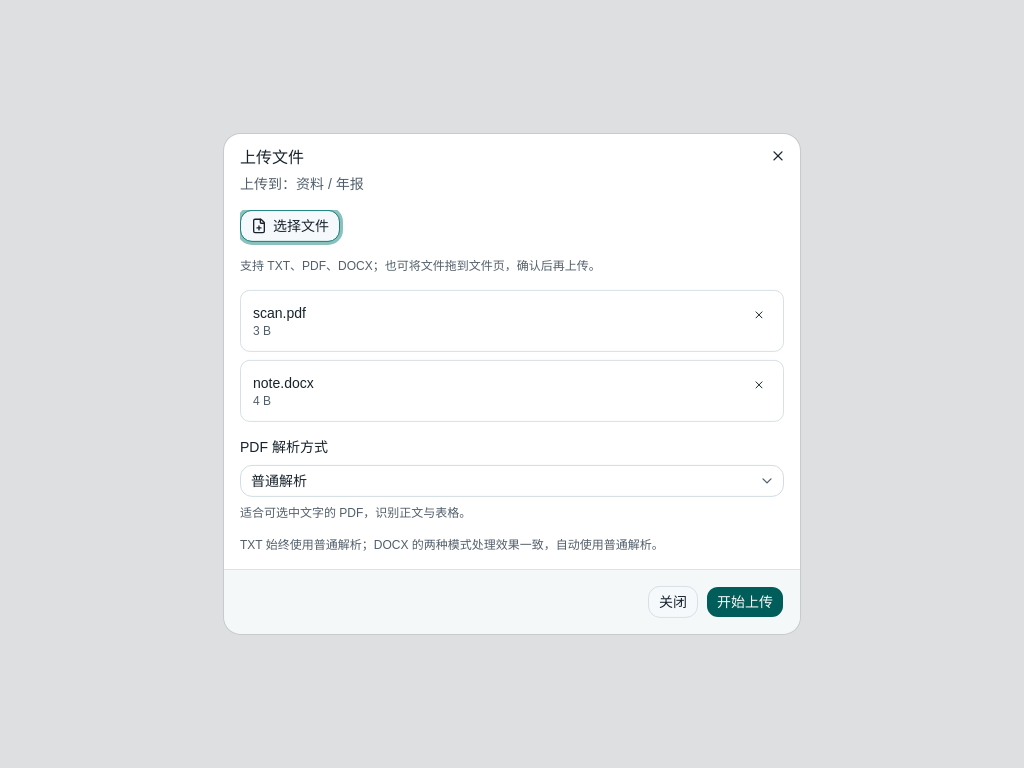
上传确认 › applies OCR only to PDFs and retries failed uploads without resending successes
Click the dropdown named "PDF 解析方式".
click(279, 481)  # box [240, 465, 784, 497]
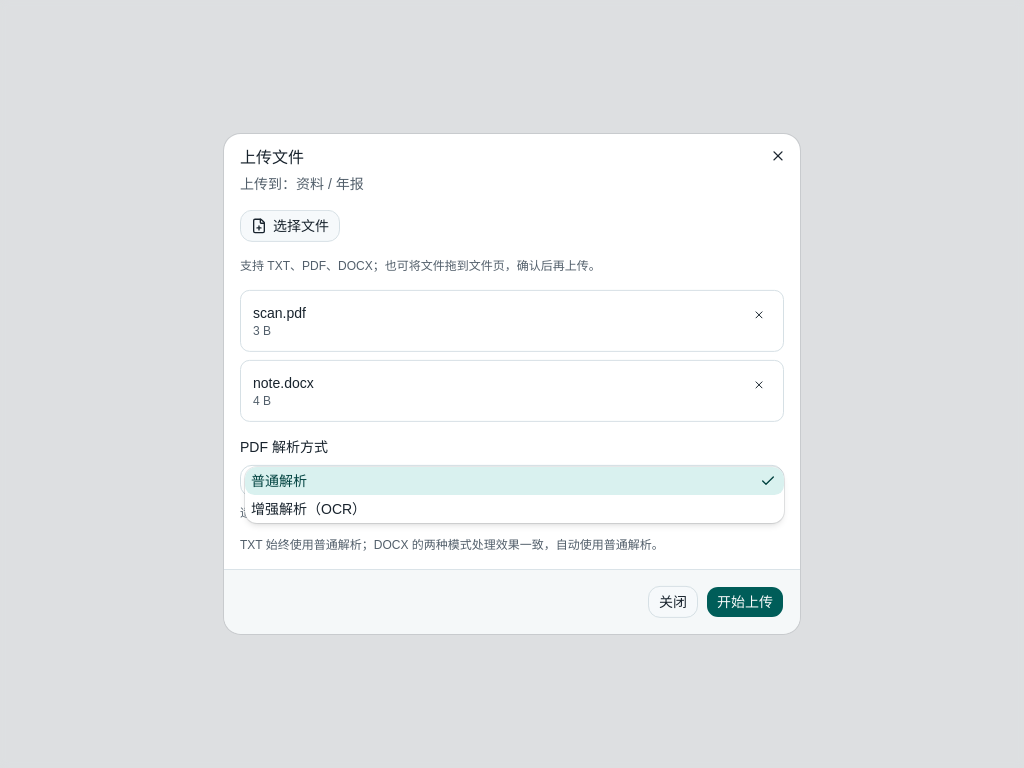
Click the option "增强解析（OCR）".
click(309, 509)  # box [251, 501, 366, 517]
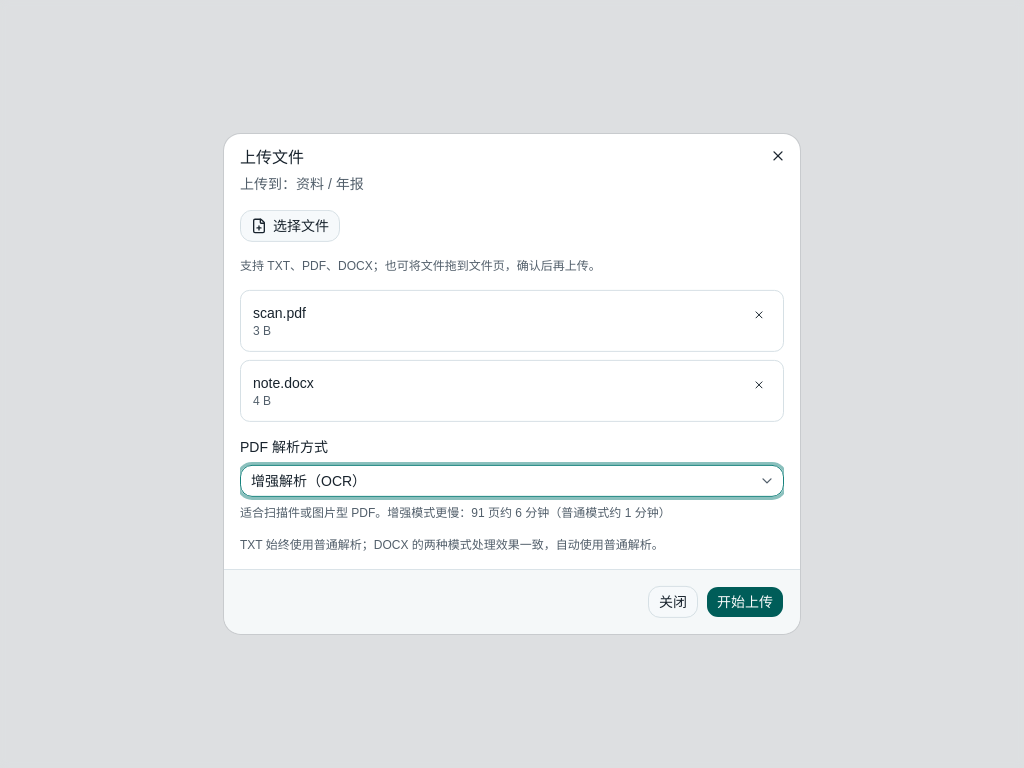
Click the button "开始上传".
click(745, 602)  # box [706, 586, 784, 618]
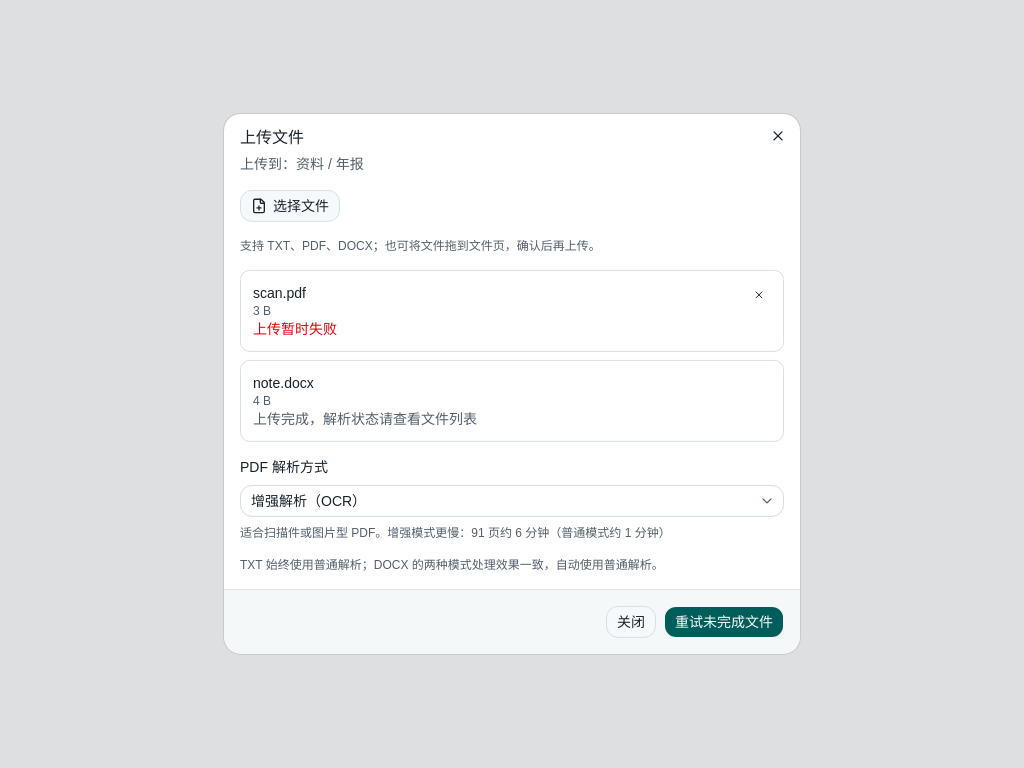
Expected: the button "重试未完成文件" is shown
Expected: the text "上传暂时失败" is shown, [253, 321, 337, 337]
Click the button "重试未完成文件".
click(724, 622)  # box [664, 606, 784, 638]
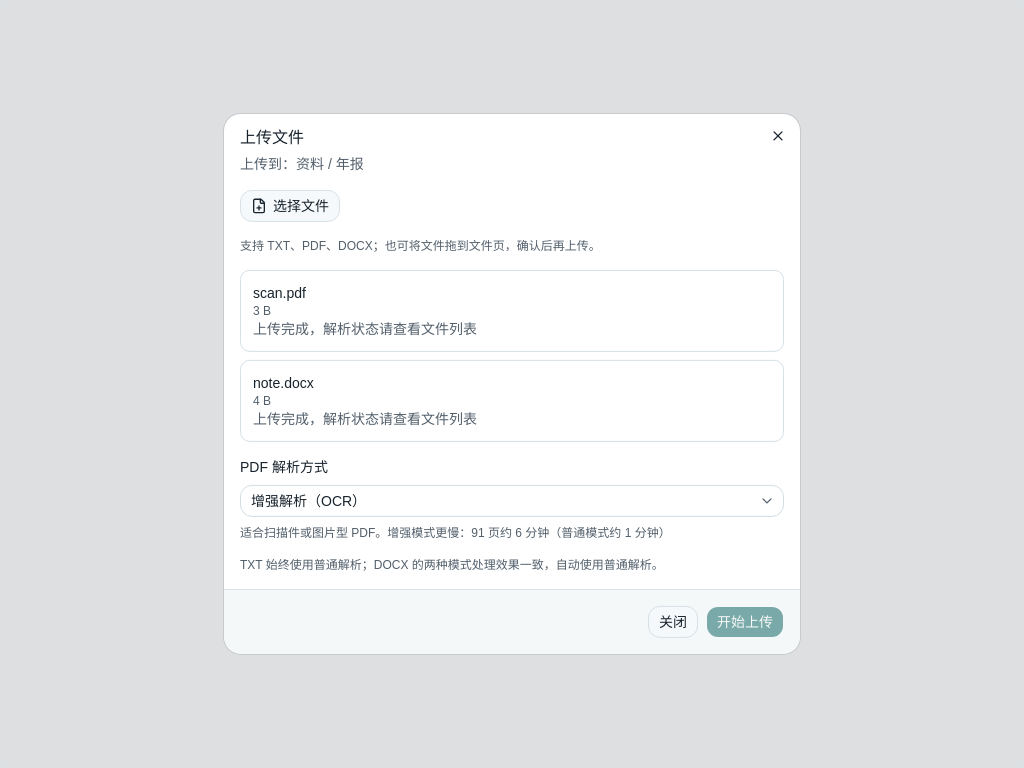
Expected: the button "开始上传" is shown, [706, 606, 784, 638]
